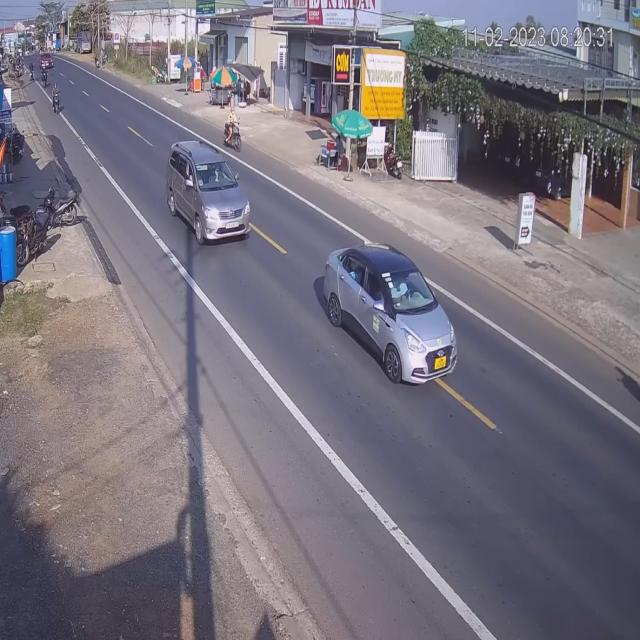car: (323, 242, 460, 384), (166, 141, 251, 247)
motorbike: (223, 110, 241, 152), (52, 85, 63, 115)
